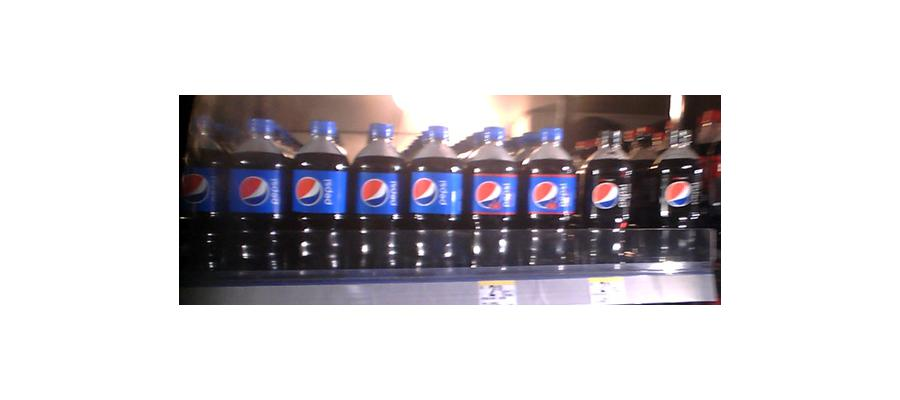bottle: (224, 116, 291, 266), (287, 120, 347, 266), (650, 118, 705, 274), (462, 117, 518, 265), (404, 121, 461, 263), (350, 120, 405, 264), (582, 124, 638, 264), (523, 120, 577, 261)
